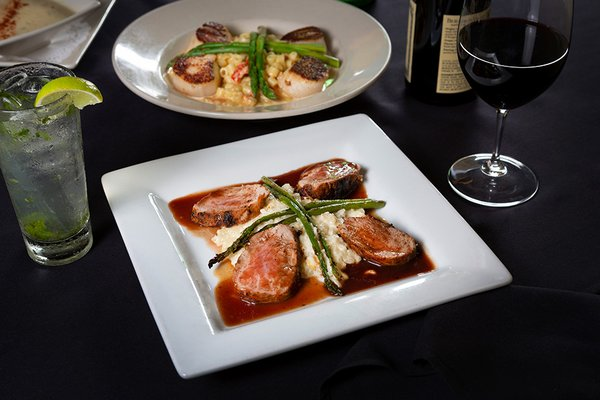sushi: (0, 0, 113, 69)
